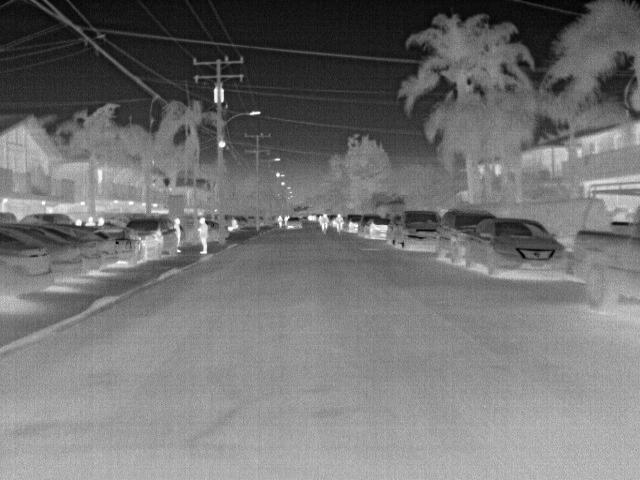car: (571, 180, 637, 312), (462, 214, 568, 278), (2, 223, 85, 280), (436, 209, 492, 265), (2, 233, 48, 296), (43, 227, 101, 271), (123, 215, 179, 257), (388, 209, 443, 250), (94, 225, 146, 267), (83, 230, 120, 266), (359, 216, 392, 240), (203, 219, 220, 242), (348, 214, 365, 234), (283, 214, 304, 230)
person: (196, 216, 210, 255), (171, 218, 184, 253), (317, 212, 330, 237), (333, 214, 347, 234), (276, 214, 286, 230), (85, 215, 96, 226), (74, 217, 84, 228), (97, 215, 107, 226)
